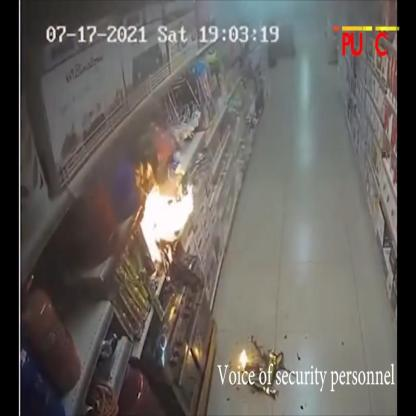fire: (140, 184, 194, 261), (239, 350, 248, 364)
